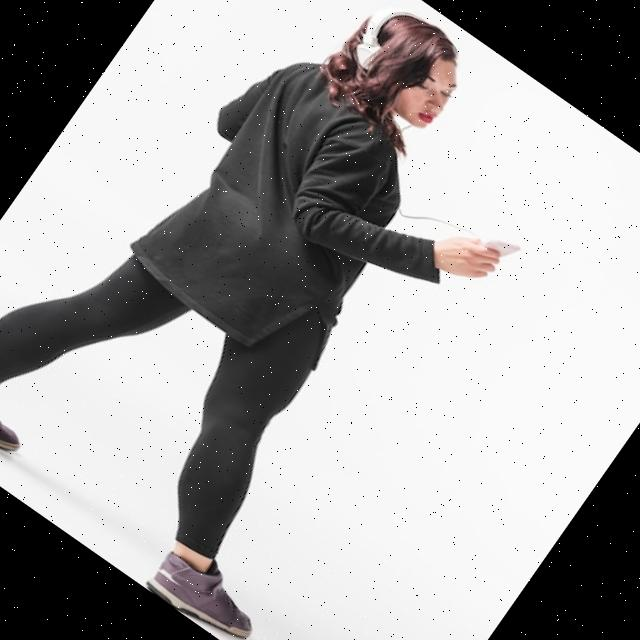Person: (0, 0, 597, 640)
